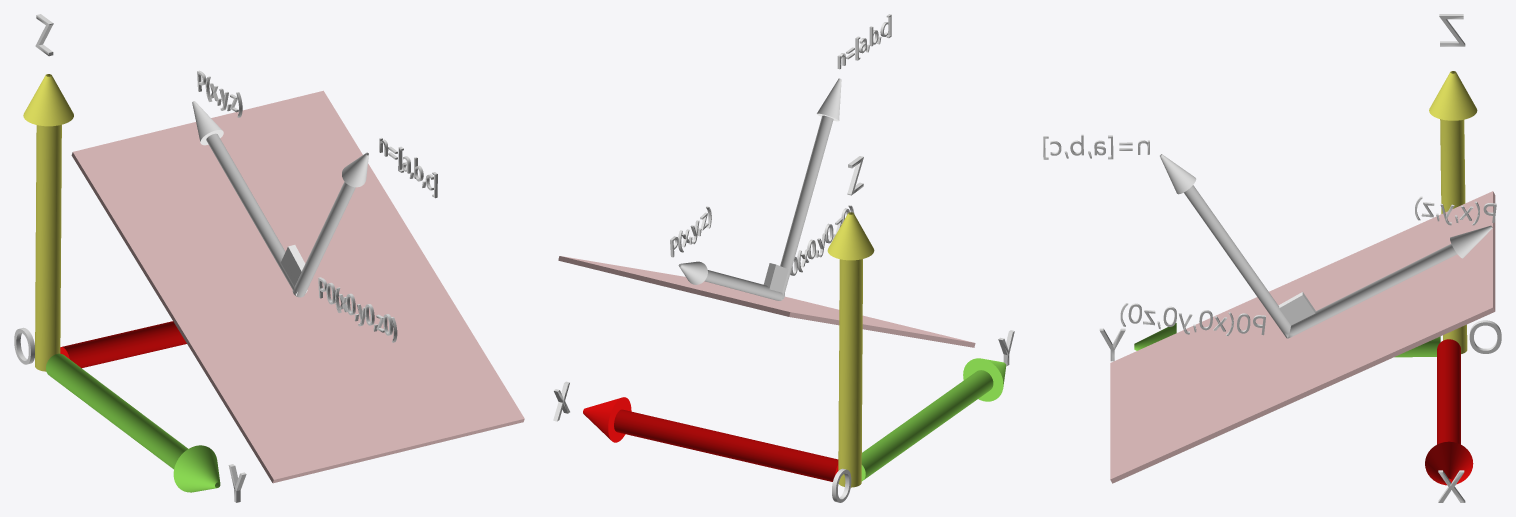
3 renders of one model, left to right at view 1: azimuth 30°, elevation 25°; view 2: azimuth 150°, elevation 25°; view 3: azimuth 270°, elevation 25°, orthographic. The views are drawn at different scales.
Parts seen in each view (by area): view 1: Cube.004, Cylinder.078, Cylinder.079, Cylinder.080, Cylinder.076, Cone.057, Cone.056, Cylinder.077, Cone.055, Cone.054, Cube.1; view 2: Cylinder.080, Cylinder.078, Cube.004, Cylinder.079, Cylinder.077, Cone.056, Cone.058, Cone.057, Cylinder.076, Cone.055, Cube.1; view 3: Cube.004, Cylinder.078, Cylinder.080, Cylinder.076, Cylinder.077, Cone.058, Cone.056, Cube.1, Cone.055, Cone.054.
Part boxes in pixels (x1=…): Cube.004: x1=71, y1=90, x2=524, y2=483; Cylinder.078: x1=35, y1=125, x2=61, y2=371; Cylinder.079: x1=46, y1=353, x2=187, y2=469; Cylinder.080: x1=60, y1=321, x2=186, y2=368; Cylinder.076: x1=206, y1=133, x2=307, y2=295; Cone.057: x1=173, y1=445, x2=220, y2=492; Cone.056: x1=23, y1=74, x2=73, y2=126; Cylinder.077: x1=292, y1=181, x2=355, y2=297; Cone.055: x1=342, y1=152, x2=368, y2=187; Cone.054: x1=192, y1=101, x2=223, y2=145; Cube.1: x1=280, y1=245, x2=305, y2=286; Cylinder.080: x1=614, y1=409, x2=838, y2=481; Cylinder.078: x1=838, y1=259, x2=862, y2=487; Cube.004: x1=558, y1=256, x2=975, y2=347; Cylinder.079: x1=861, y1=370, x2=993, y2=481; Cylinder.077: x1=780, y1=115, x2=833, y2=299; Cone.056: x1=827, y1=212, x2=874, y2=260; Cone.058: x1=583, y1=397, x2=631, y2=442; Cone.057: x1=963, y1=358, x2=1006, y2=401; Cylinder.076: x1=704, y1=270, x2=784, y2=300; Cone.055: x1=816, y1=78, x2=841, y2=121; Cube.1: x1=763, y1=263, x2=788, y2=292; Cube.004: x1=1110, y1=191, x2=1495, y2=483; Cylinder.078: x1=1440, y1=119, x2=1467, y2=353; Cylinder.080: x1=1437, y1=339, x2=1460, y2=444; Cylinder.076: x1=1285, y1=244, x2=1456, y2=338; Cylinder.077: x1=1184, y1=185, x2=1293, y2=338; Cone.058: x1=1425, y1=441, x2=1473, y2=485; Cone.056: x1=1429, y1=71, x2=1477, y2=120; Cube.1: x1=1278, y1=292, x2=1315, y2=325; Cone.055: x1=1160, y1=154, x2=1196, y2=194; Cone.054: x1=1450, y1=225, x2=1492, y2=258.
Bounding box in the file's own units: 0.1543 × 0.1603 × 0.1898.
